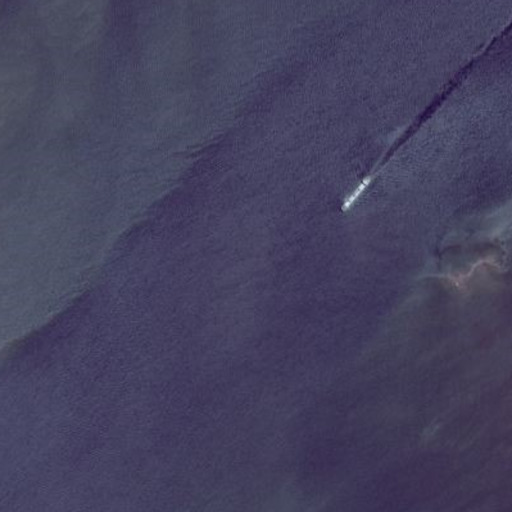ship: (336, 173, 376, 217)
